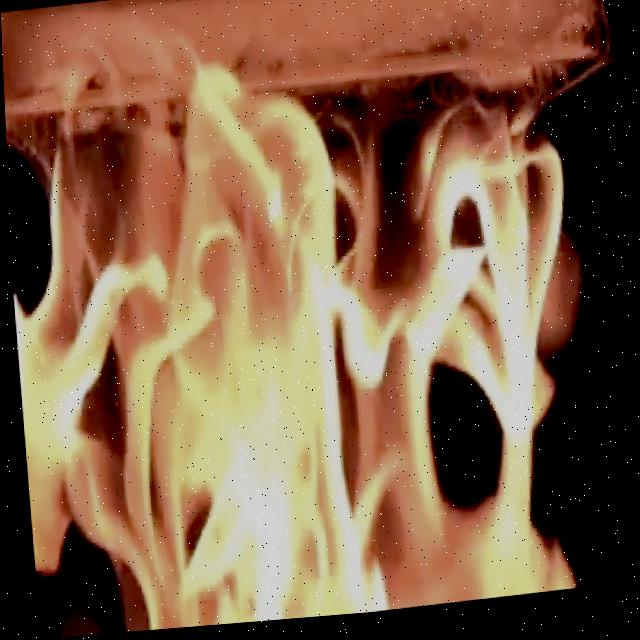Fire: (2, 8, 597, 640)
